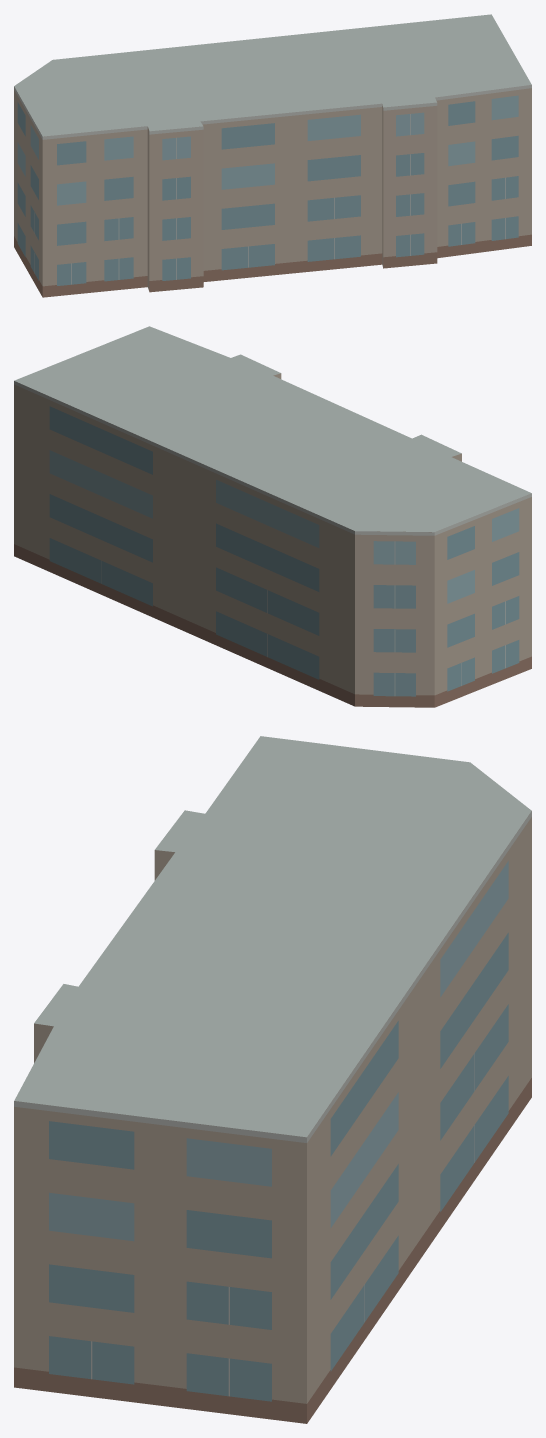
The model's file is survey-upis-32856522.glb.
3 views of the same model, one above another, from view 1: azimuth 30°, elevation 25°; view 2: azimuth 150°, elevation 25°; view 3: azimuth 270°, elevation 25° (orthographic). The views are drawn at different scales.
Parts seen in each view (by area): view 1: survey-upis-32856522.tmp; view 2: survey-upis-32856522.tmp; view 3: survey-upis-32856522.tmp.
Boxes of the visible parts, bbox=[...] form: survey-upis-32856522.tmp: bbox=[14, 14, 531, 297]; survey-upis-32856522.tmp: bbox=[14, 326, 531, 707]; survey-upis-32856522.tmp: bbox=[14, 736, 531, 1423].
Size of the model in its own units: 35.75 by 11.9 by 19.5.
